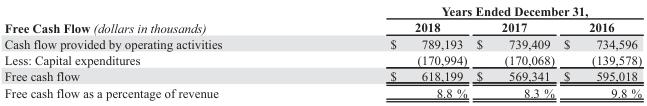table: (3, 3, 641, 99)
table column: (3, 3, 305, 99), (305, 3, 471, 99), (471, 3, 558, 99), (558, 3, 641, 99)
table column header: (3, 3, 641, 35)
table row: (3, 18, 641, 35), (3, 51, 641, 68), (3, 35, 641, 51), (3, 68, 641, 84), (3, 3, 641, 18), (3, 84, 641, 99)
table spanning cell: (3, 3, 305, 35), (305, 3, 641, 18)
